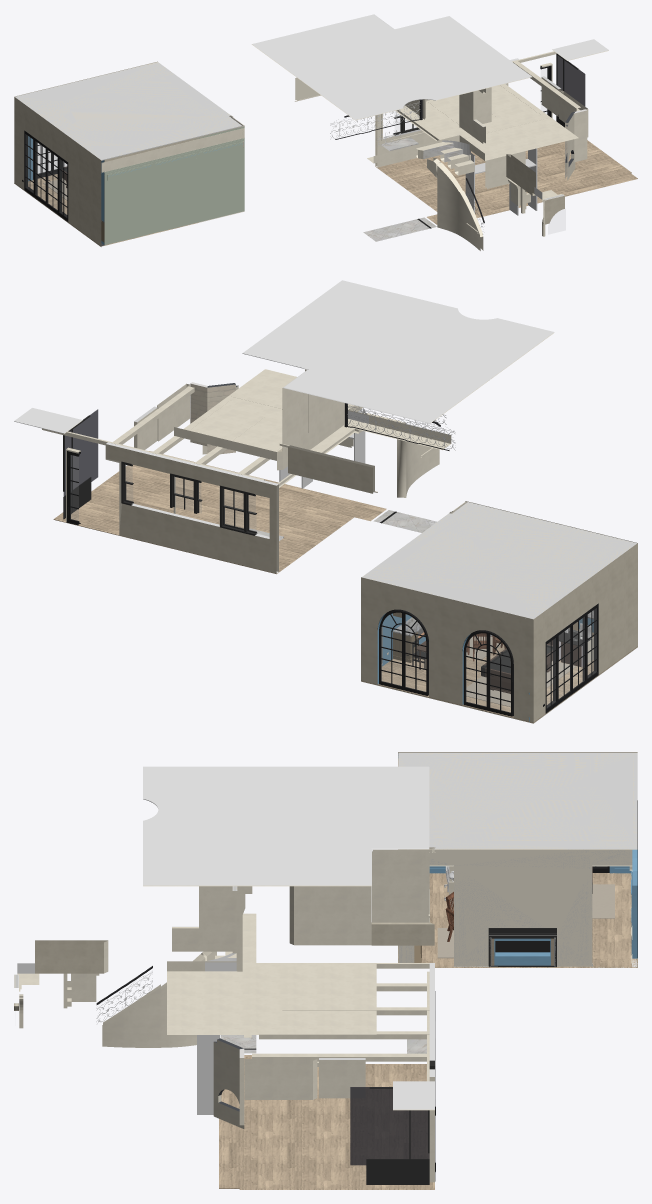
The model's file is game-room-f039dc67bb53.glb.
The picture shows the model from 3 angles, top to bottom: view 1: azimuth 30°, elevation 25°; view 2: azimuth 150°, elevation 25°; view 3: azimuth 270°, elevation 25°; orthographic projection. The views are drawn at different scales.
Parts seen in each view (by area): view 1: game-room-look-9d91b47435c6fb33, game-room-4a969f5cc1ae3dfe, game-room-30c5953c9ad73e5d, game-room-look-3b0077416469e01b, game-room-look-2575515a05775d9e, game-room-039192b0560cfac3, game-room-50d54560d247b537, game-room-look-8c6a7019fd0063e7, game-room-2575515a05775d9e, game-room-f4800b31bfeb29e4, game-room-look-bfb9fa537cd11d1d, game-room-look-cbd4bf73d9724a66 (+19 smaller); view 2: game-room-look-9d91b47435c6fb33, game-room-4a969f5cc1ae3dfe, game-room-look-3b0077416469e01b, game-room-969b861f9850351e, game-room-look-bfb9fa537cd11d1d, game-room-039192b0560cfac3, game-room-look-2575515a05775d9e, game-room-50d54560d247b537, game-room-3b0077416469e01b, game-room-look-245f595ae2832e16, game-room-ebdc05650cf31826, game-room-ca241f91fd698c40 (+23 smaller); view 3: game-room-look-9d91b47435c6fb33, game-room-4a969f5cc1ae3dfe, game-room-look-3b0077416469e01b, game-room-3e6709f91b43c3bf, game-room-look-2575515a05775d9e, game-room-50d54560d247b537, game-room-look-69af8f587252f9fa, game-room-look-cbd4bf73d9724a66, game-room-3b0077416469e01b, game-room-look-32b959c9aa406288, game-room-look-8c6a7019fd0063e7, game-room-look-c51ecd664a3b22a3 (+22 smaller).
Boxes of the visible parts, <box> form: game-room-look-9d91b47435c6fb33: <box>251,14,531,120</box>; game-room-4a969f5cc1ae3dfe: <box>14,62,242,160</box>; game-room-30c5953c9ad73e5d: <box>104,126,244,245</box>; game-room-look-3b0077416469e01b: <box>375,140,637,224</box>; game-room-look-2575515a05775d9e: <box>367,84,578,163</box>; game-room-039192b0560cfac3: <box>14,97,104,246</box>; game-room-50d54560d247b537: <box>14,61,243,160</box>; game-room-look-8c6a7019fd0063e7: <box>427,157,483,250</box>; game-room-2575515a05775d9e: <box>101,128,244,172</box>; game-room-f4800b31bfeb29e4: <box>24,130,68,221</box>; game-room-look-bfb9fa537cd11d1d: <box>375,58,518,167</box>; game-room-look-cbd4bf73d9724a66: <box>557,55,585,106</box>; game-room-look-9d91b47435c6fb33: <box>242,280,554,423</box>; game-room-4a969f5cc1ae3dfe: <box>361,502,637,619</box>; game-room-look-3b0077416469e01b: <box>53,451,386,574</box>; game-room-969b861f9850351e: <box>361,578,529,721</box>; game-room-look-bfb9fa537cd11d1d: <box>105,442,278,573</box>; game-room-039192b0560cfac3: <box>529,544,637,722</box>; game-room-look-2575515a05775d9e: <box>174,369,451,460</box>; game-room-50d54560d247b537: <box>361,502,637,619</box>; game-room-3b0077416469e01b: <box>361,644,637,722</box>; game-room-look-245f595ae2832e16: <box>288,445,374,493</box>; game-room-ebdc05650cf31826: <box>487,632,512,716</box>; game-room-ca241f91fd698c40: <box>403,612,427,695</box>; game-room-look-9d91b47435c6fb33: <box>143,766,429,886</box>; game-room-4a969f5cc1ae3dfe: <box>398,752,637,849</box>; game-room-look-3b0077416469e01b: <box>219,1055,434,1189</box>; game-room-3e6709f91b43c3bf: <box>398,849,632,966</box>; game-room-look-2575515a05775d9e: <box>167,913,376,1034</box>; game-room-50d54560d247b537: <box>398,752,637,849</box>; game-room-look-69af8f587252f9fa: <box>289,886,371,945</box>; game-room-look-cbd4bf73d9724a66: <box>350,1087,429,1165</box>; game-room-3b0077416469e01b: <box>398,873,637,967</box>; game-room-look-32b959c9aa406288: <box>372,849,429,922</box>; game-room-look-8c6a7019fd0063e7: <box>102,951,216,1047</box>; game-room-look-c51ecd664a3b22a3: <box>172,886,236,951</box>.
Bounding box in the file's own units: 21.68 × 6.36 × 16.78.
71 materials, 18 textured.
